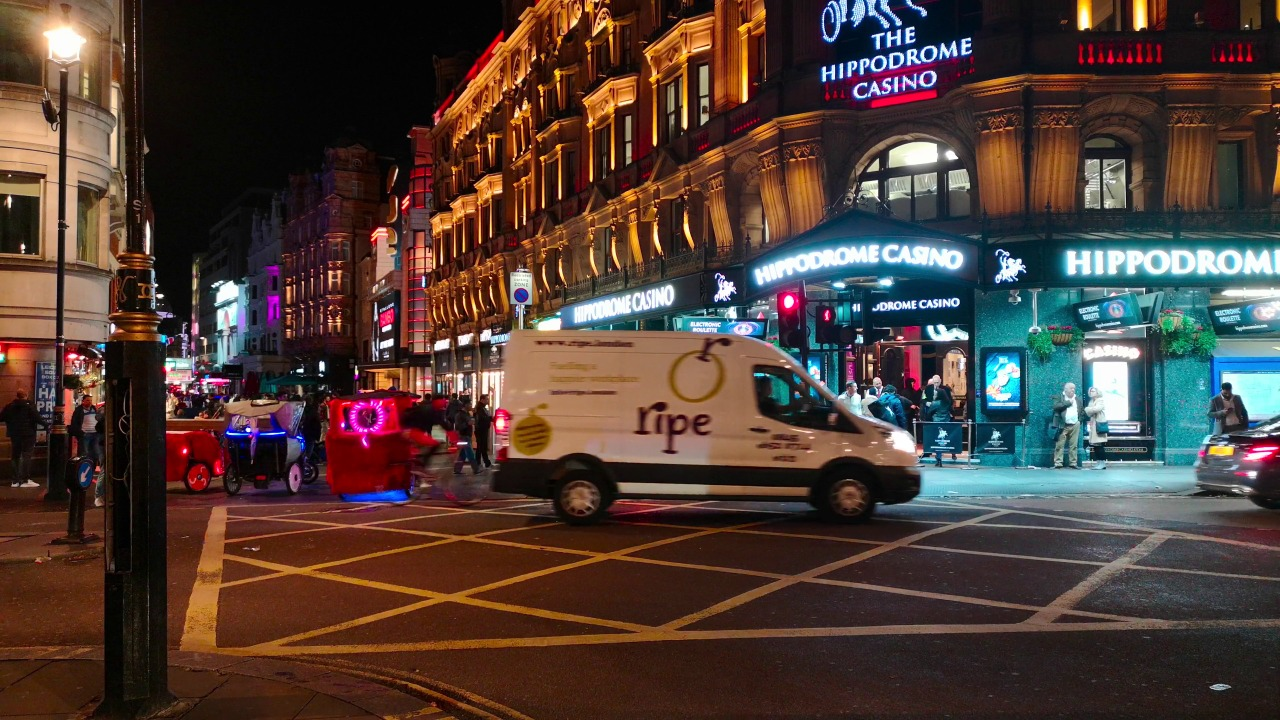car: (489, 335, 928, 526), (331, 393, 419, 497), (234, 399, 319, 504), (1202, 401, 1280, 506), (165, 419, 241, 502)
person: (8, 387, 48, 487), (65, 395, 105, 477), (1088, 390, 1119, 474), (933, 394, 959, 469), (1057, 376, 1073, 471), (1208, 382, 1243, 416), (479, 386, 489, 469), (456, 397, 468, 443), (882, 386, 893, 416), (843, 380, 855, 400), (930, 375, 946, 389)
